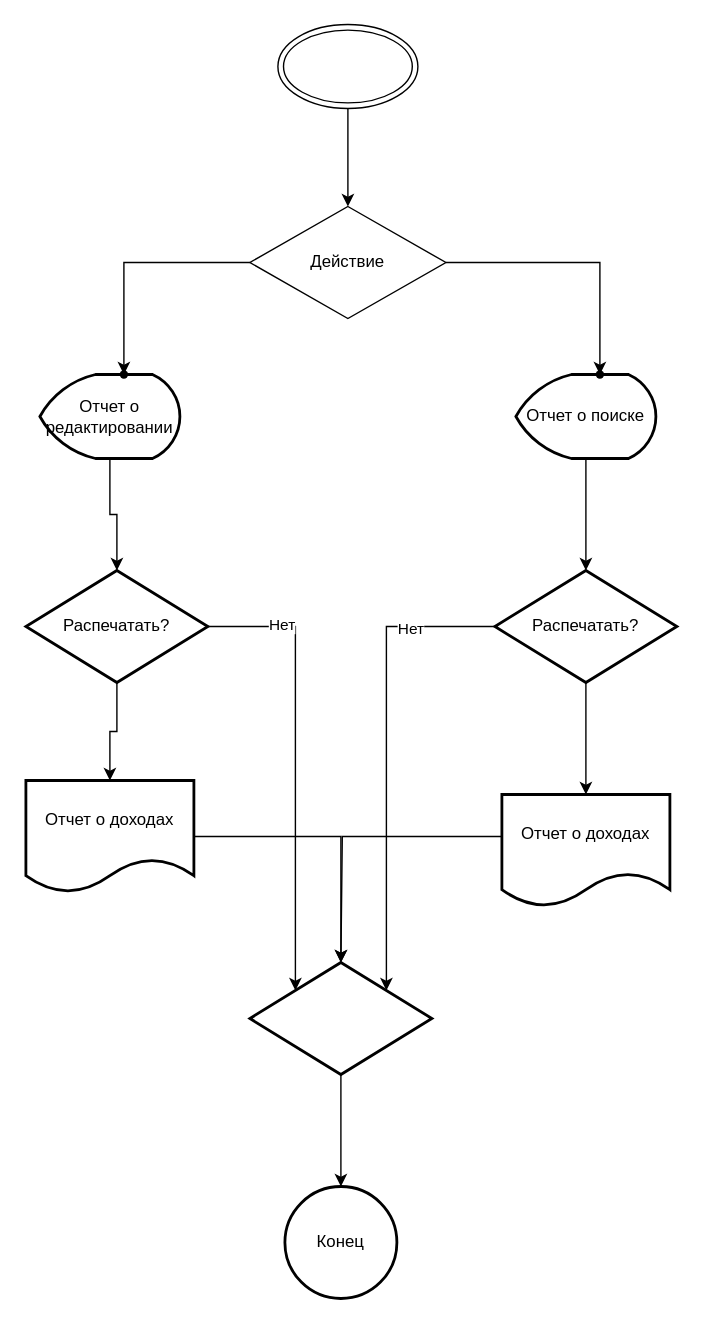
Some shapes in this 701 by 1324 pixel diagram are drawn without their labels. Each missing label, with the centre of its shape:
"Сохранить?" goes at point 340,1017.
"Старт" goes at point 347,65.
